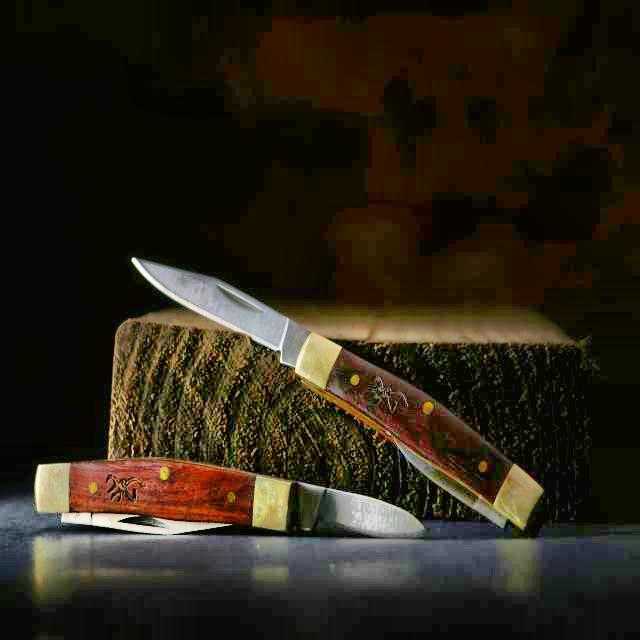knife: (126, 233, 564, 541)
